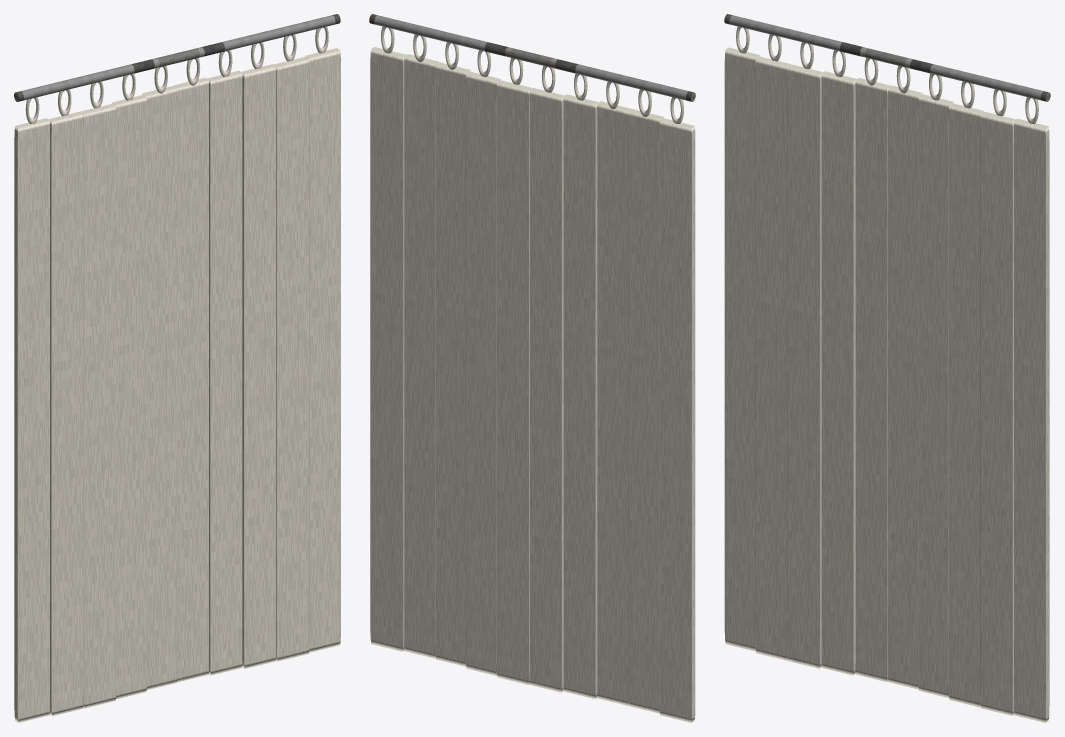
Rendered from shower-rail-set.glb.
3 renders of one model, left to right at view 1: azimuth 30°, elevation 25°; view 2: azimuth 150°, elevation 25°; view 3: azimuth 330°, elevation 25°, orthographic.
Parts seen in each view (by area): view 1: pleat (×10), rod; view 2: pleat (×10), rod; view 3: pleat (×10), rod.
Boxes of the visible parts, x1,y1,x2,y2 form: pleat (×10): (14,48,340,722); rod: (14,14,340,101); pleat (×10): (370,47,695,722); rod: (369,14,695,101); pleat (×10): (724,47,1049,722); rod: (724,14,1050,101).
Size of the model in its own units: 1 by 1.87 by 0.0376.
2 materials, 2 textured.
